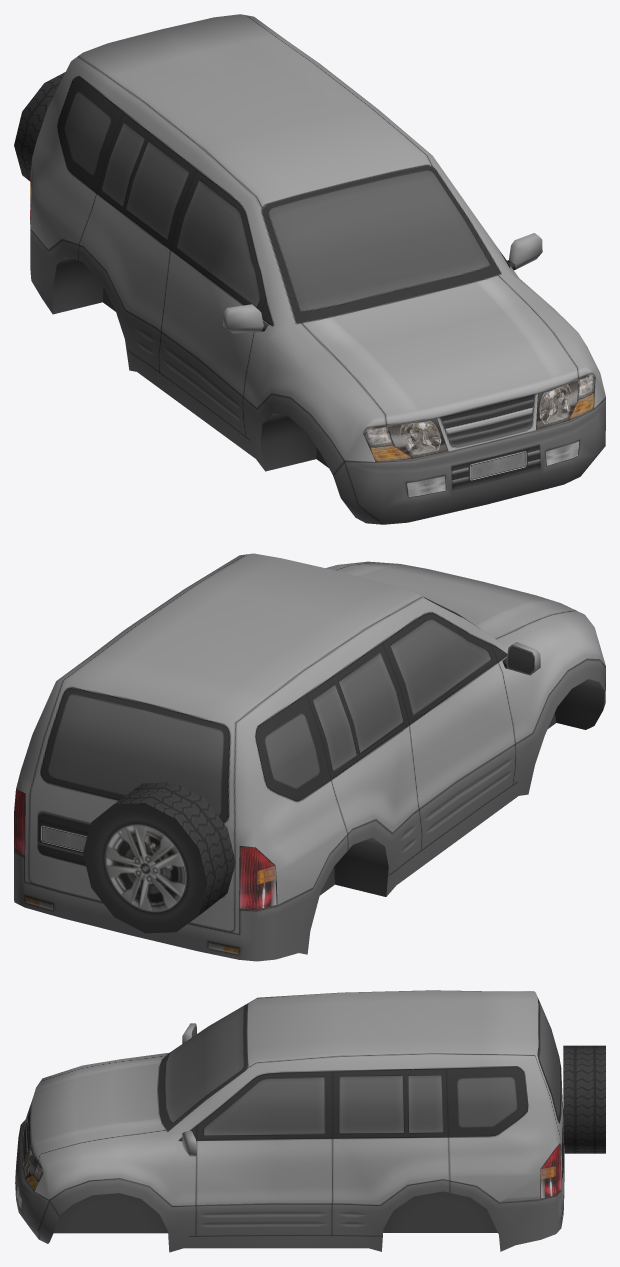
The model's file is SUV.fbx.
The picture shows the model from 3 angles, top to bottom: view 1: azimuth 30°, elevation 25°; view 2: azimuth 150°, elevation 25°; view 3: azimuth 270°, elevation 25°; orthographic projection. The views are drawn at different scales.
Parts seen in each view (by area): view 1: Body, Headlight; view 2: Body, Brake; view 3: Body, Brake, Headlight.
Boxes of the visible parts, left/top/right/bottom form: Body: left=14, top=14, right=605, bottom=524; Headlight: left=363, top=375, right=595, bottom=497; Body: left=14, top=553, right=605, bottom=961; Brake: left=14, top=789, right=277, bottom=910; Body: left=15, top=990, right=605, bottom=1252; Brake: left=540, top=1143, right=561, bottom=1198; Headlight: left=17, top=1099, right=42, bottom=1208.
Bounding box in the file's own units: 232 × 167 × 487.
